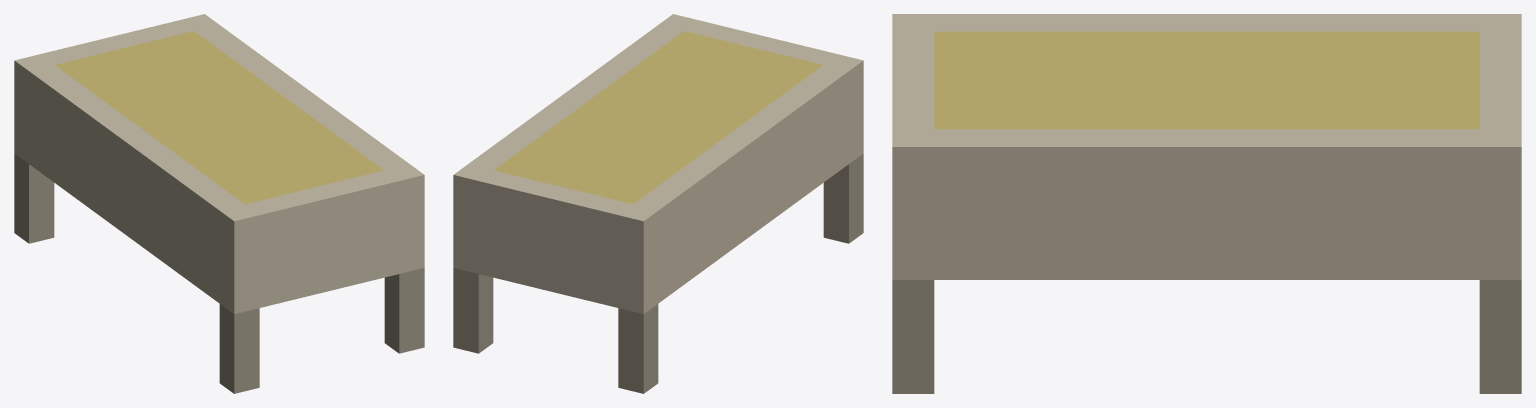
The model's file is pesebre_fresno_01.glb.
3 renders of one model, left to right at view 1: azimuth 30°, elevation 25°; view 2: azimuth 150°, elevation 25°; view 3: azimuth 270°, elevation 25°, orthographic. The views are drawn at different scales.
Visible parts, largest first — view 1: pesebre_fresno; view 2: pesebre_fresno; view 3: pesebre_fresno.
Boxes of the visible parts, x1=… form: pesebre_fresno: x1=14, y1=14, x2=424, y2=393; pesebre_fresno: x1=453, y1=14, x2=863, y2=393; pesebre_fresno: x1=892, y1=14, x2=1521, y2=393.
Bounding box in the file's own units: 1 × 0.8667 × 2.
